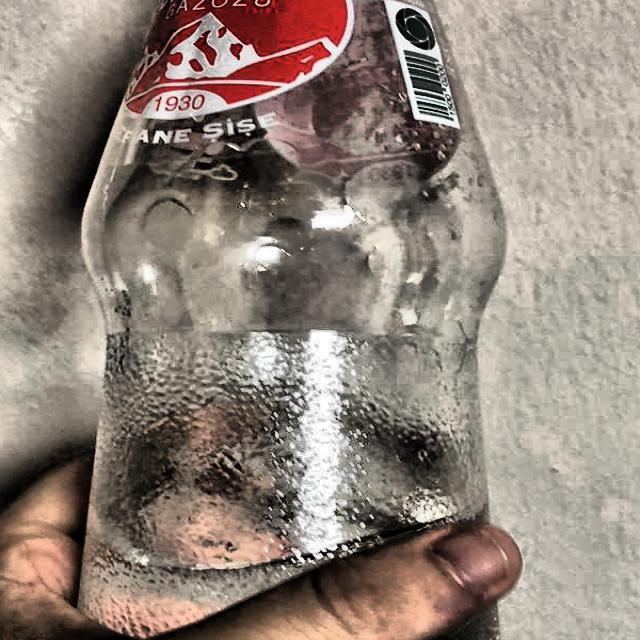plastic: (78, 0, 521, 640)
